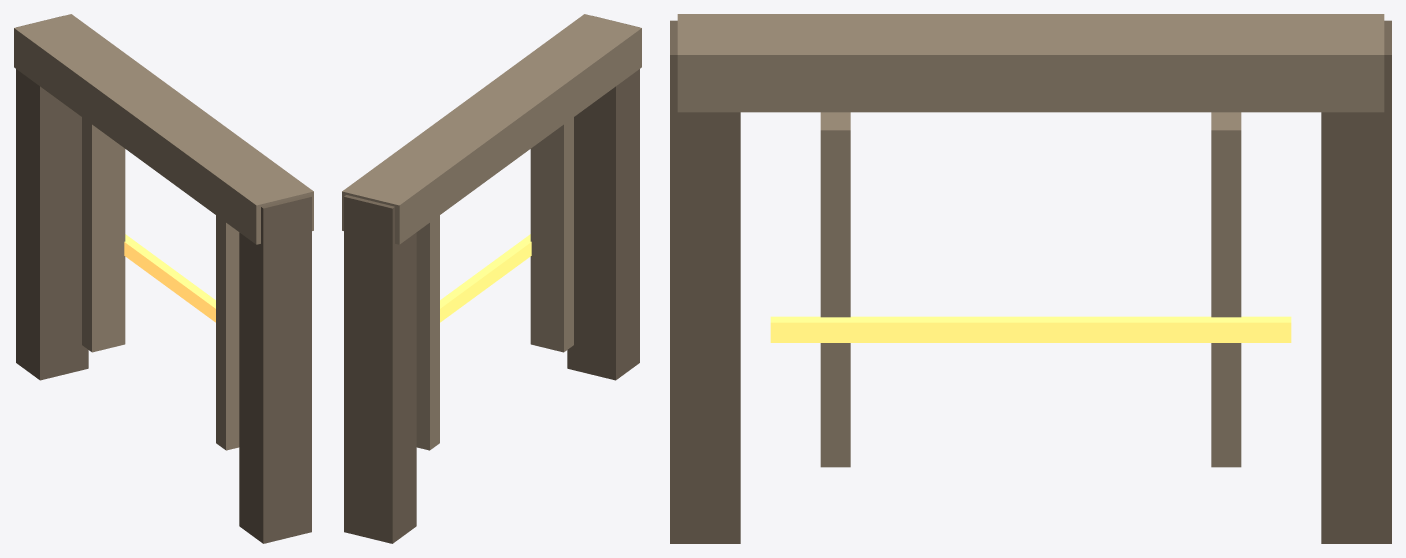
File: refinery-bulkhead-lod1.glb
3 views of the same model, side by side, from view 1: azimuth 30°, elevation 25°; view 2: azimuth 150°, elevation 25°; view 3: azimuth 270°, elevation 25° (orthographic). The views are drawn at different scales.
Visible parts, largest first — view 1: refinery-bulkhead-right, refinery-bulkhead-cap, refinery-bulkhead-left, refinery-bulkhead-brace-left, refinery-bulkhead-brace-right, refinery-bulkhead-hazard; view 2: refinery-bulkhead-left, refinery-bulkhead-cap, refinery-bulkhead-right, refinery-bulkhead-brace-right, refinery-bulkhead-brace-left, refinery-bulkhead-hazard; view 3: refinery-bulkhead-cap, refinery-bulkhead-left, refinery-bulkhead-right, refinery-bulkhead-hazard, refinery-bulkhead-brace-left, refinery-bulkhead-brace-right.
Boxes of the visible parts, x1=… form: refinery-bulkhead-right: x1=239, y1=195, x2=311, y2=543; refinery-bulkhead-cap: x1=14, y1=14, x2=313, y2=244; refinery-bulkhead-left: x1=16, y1=15, x2=88, y2=380; refinery-bulkhead-brace-left: x1=82, y1=117, x2=125, y2=352; refinery-bulkhead-brace-right: x1=216, y1=215, x2=239, y2=450; refinery-bulkhead-hazard: x1=124, y1=234, x2=215, y2=322; refinery-bulkhead-left: x1=344, y1=195, x2=416, y2=543; refinery-bulkhead-cap: x1=342, y1=14, x2=641, y2=244; refinery-bulkhead-right: x1=567, y1=15, x2=639, y2=380; refinery-bulkhead-brace-right: x1=530, y1=117, x2=573, y2=352; refinery-bulkhead-brace-left: x1=416, y1=215, x2=439, y2=450; refinery-bulkhead-hazard: x1=440, y1=234, x2=531, y2=322; refinery-bulkhead-cap: x1=677, y1=14, x2=1384, y2=112; refinery-bulkhead-left: x1=1321, y1=20, x2=1391, y2=543; refinery-bulkhead-right: x1=670, y1=20, x2=740, y2=543; refinery-bulkhead-hazard: x1=770, y1=316, x2=1291, y2=342; refinery-bulkhead-brace-left: x1=1211, y1=112, x2=1241, y2=467; refinery-bulkhead-brace-right: x1=820, y1=112, x2=850, y2=467.
Bounding box in the file's own units: 0.54 × 2.92 × 3.88.
